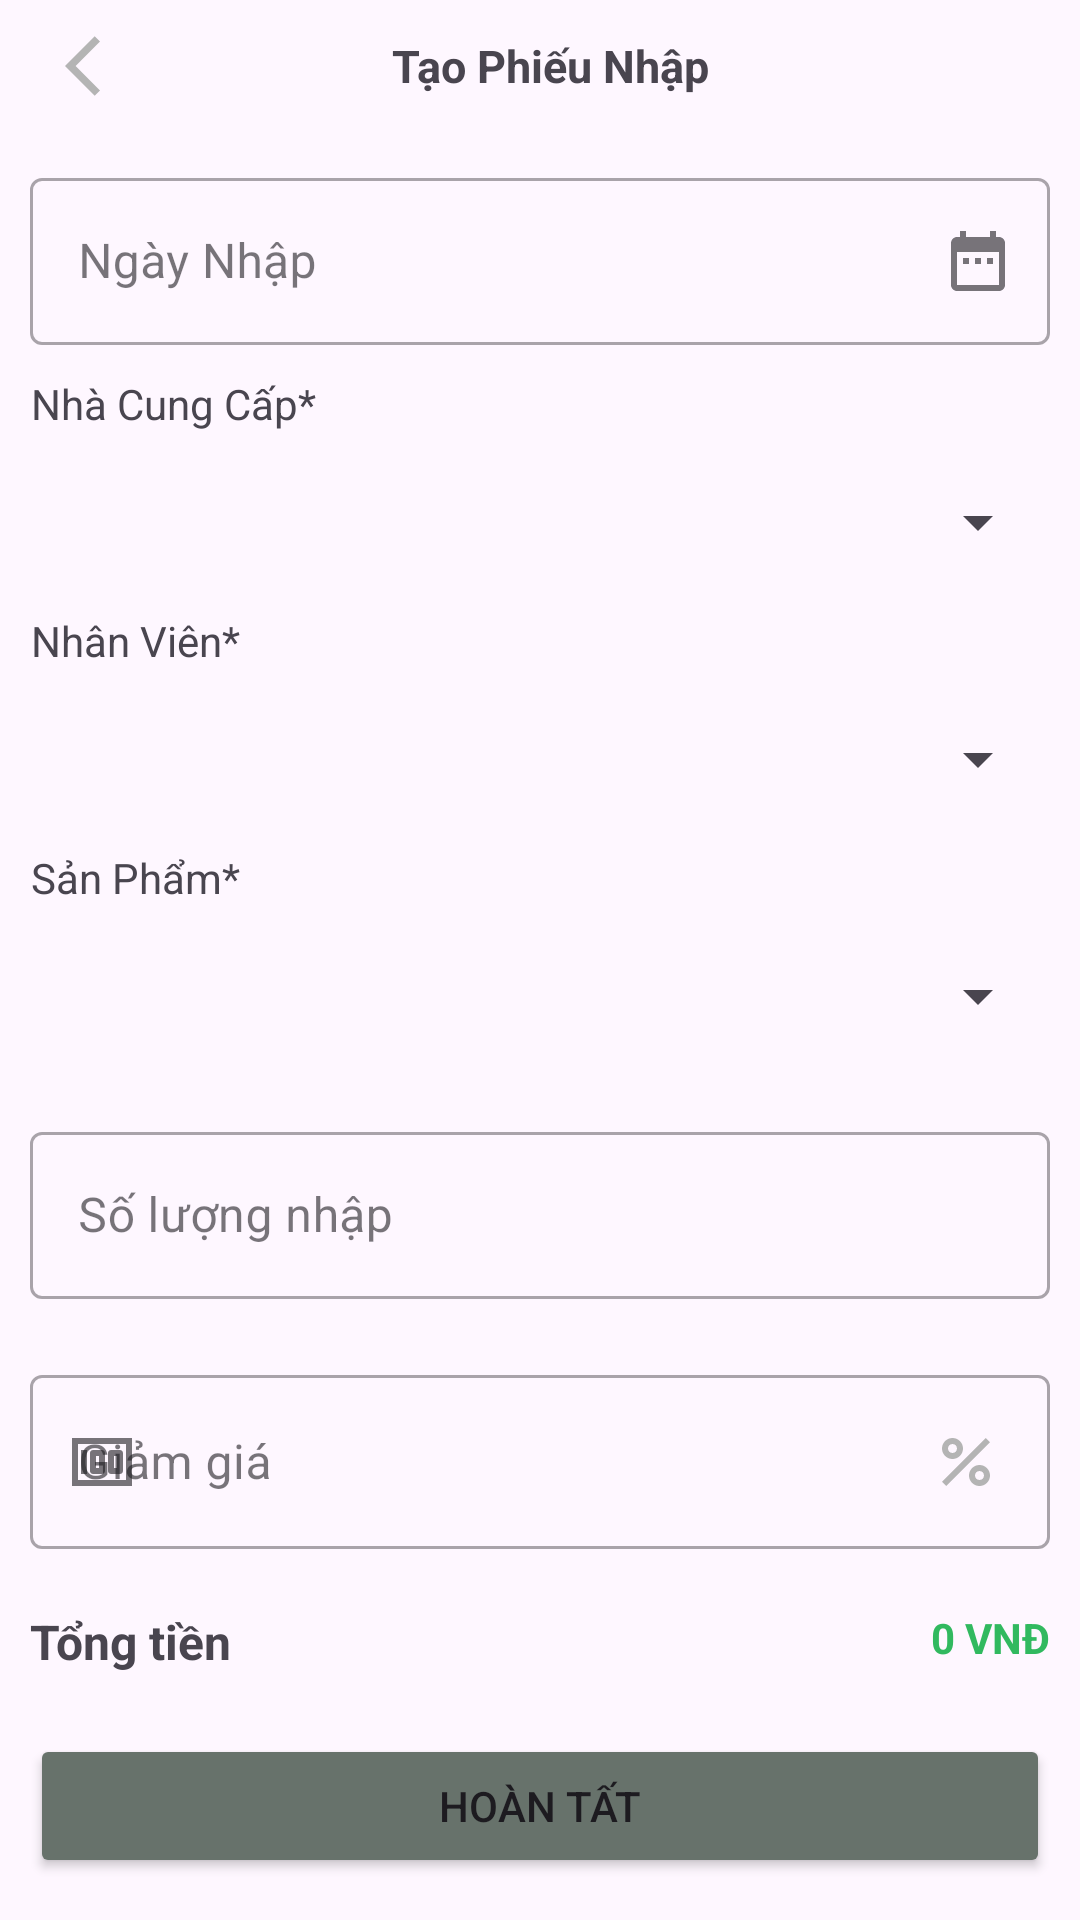

Where to tap for icons on this 1080x1920 app screen, as (x,y):
arrow back: (82,66)
